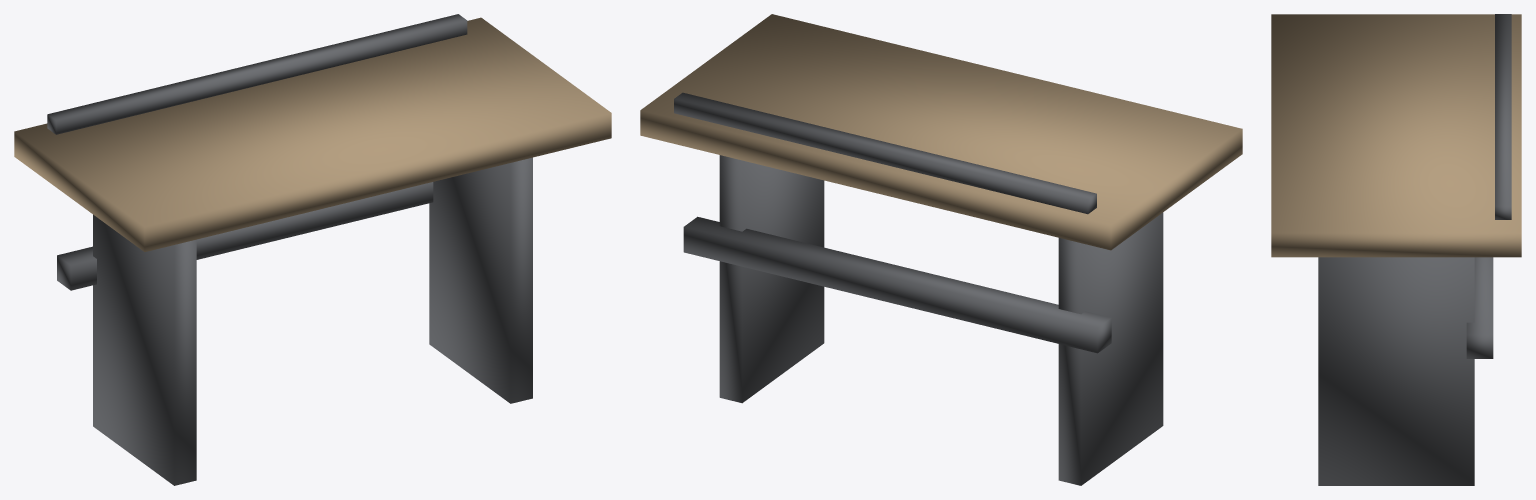
File: drafting_table__wide.glb
3 renders of one model, left to right at view 1: azimuth 30°, elevation 25°; view 2: azimuth 150°, elevation 25°; view 3: azimuth 270°, elevation 25°, orthographic. The views are drawn at different scales.
Visible parts, largest first — view 1: world; view 2: world; view 3: world.
Part boxes in pixels (<box>): world: <box>14,14,611,485</box>; world: <box>640,14,1242,485</box>; world: <box>1271,14,1521,485</box>.
Bounding box in the file's own units: 1.55 × 0.965 × 0.75.
